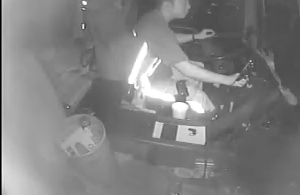cup: (168, 101, 190, 120)
